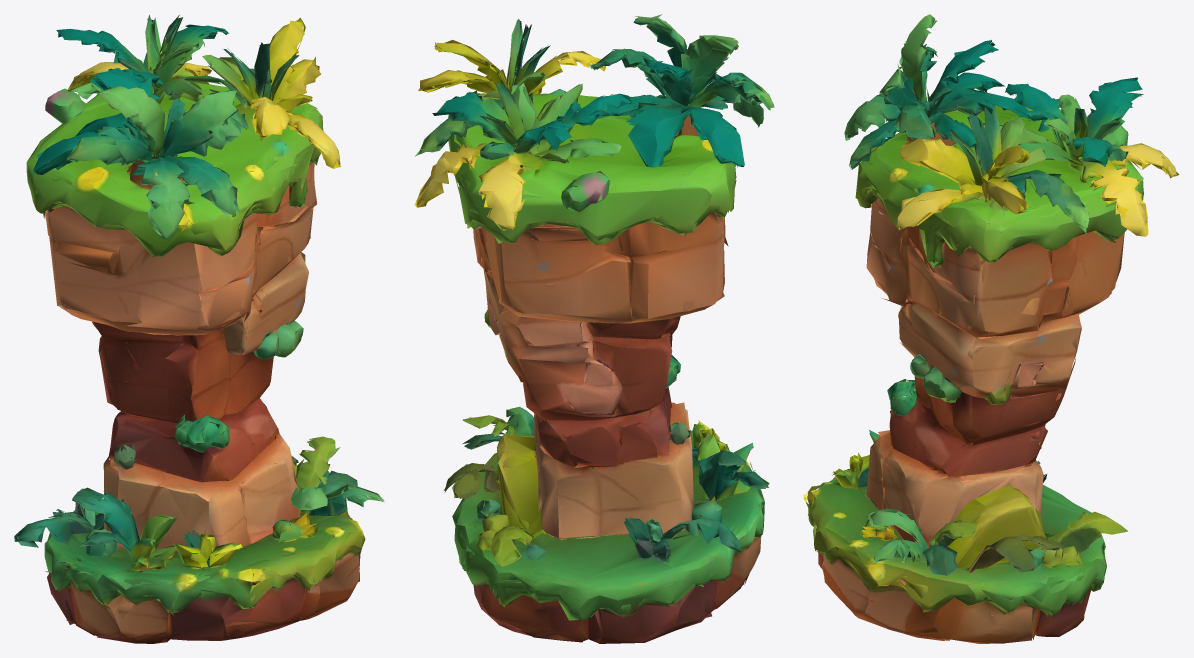
File: sea-stack.glb
3 renders of one model, left to right at view 1: azimuth 30°, elevation 25°; view 2: azimuth 150°, elevation 25°; view 3: azimuth 270°, elevation 25°, orthographic. The views are drawn at different scales.
Visible parts, largest first — view 1: Mesh_0; view 2: Mesh_0; view 3: Mesh_0.
Part boxes in pixels (x1=…): Mesh_0: x1=14, y1=15, x2=384, y2=643; Mesh_0: x1=414, y1=14, x2=774, y2=643; Mesh_0: x1=803, y1=14, x2=1179, y2=643.
Bounding box in the file's own units: 0.5779 × 1 × 0.6322.
1 material, 1 textured.
